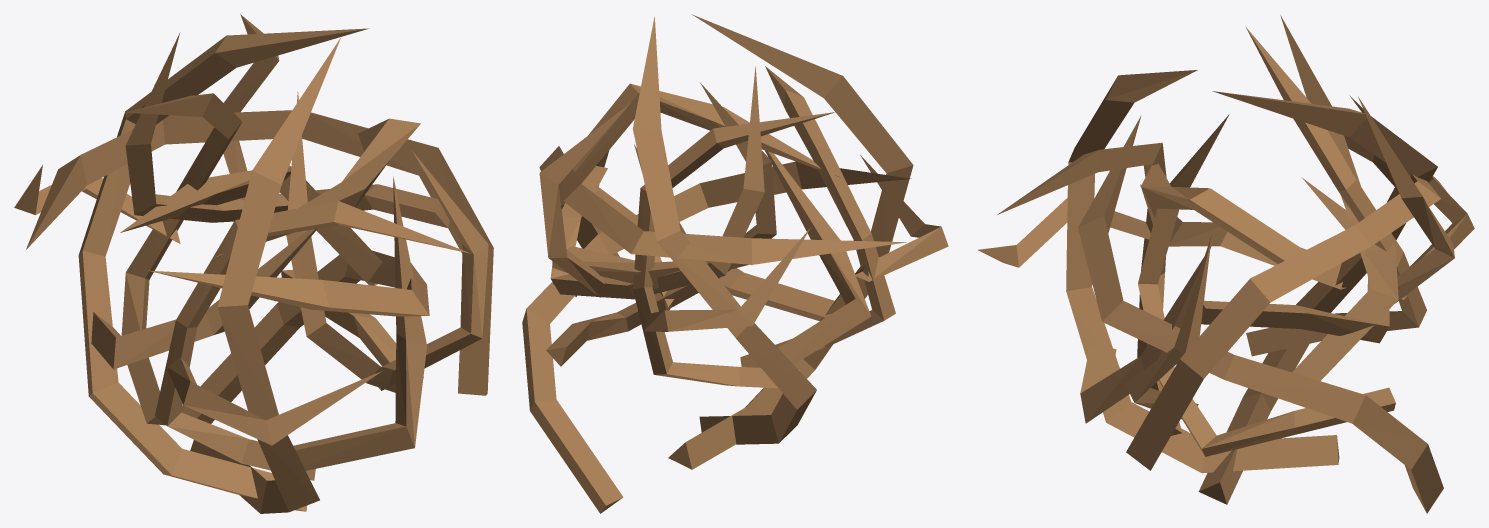
File: Tumbleweed.FBX
The picture shows the model from 3 angles, left to right: view 1: azimuth 30°, elevation 25°; view 2: azimuth 150°, elevation 25°; view 3: azimuth 270°, elevation 25°; orthographic projection. The views are drawn at different scales.
Visible parts, largest first — view 1: Tumbleweed; view 2: Tumbleweed; view 3: Tumbleweed.
Boxes of the visible parts, <box> form: Tumbleweed: <box>14,14,493,513</box>; Tumbleweed: <box>522,14,948,513</box>; Tumbleweed: <box>978,15,1474,513</box>.
Bounding box in the file's own units: 1.78 × 1.89 × 1.87.
1 material, 1 textured.
